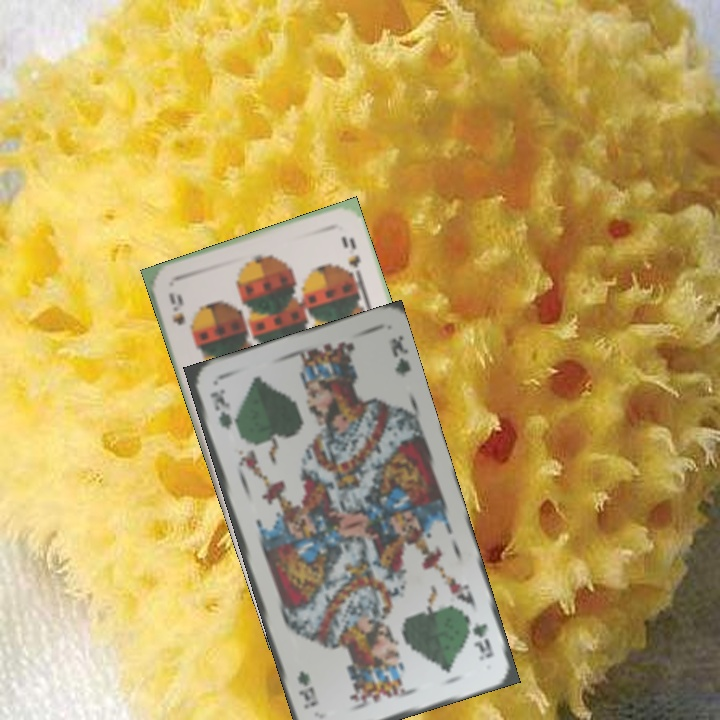GK: (206, 385, 235, 432), (468, 617, 496, 663)
S9: (164, 289, 188, 328)
